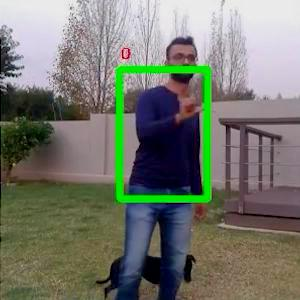land_hand: (170, 80, 205, 119)
